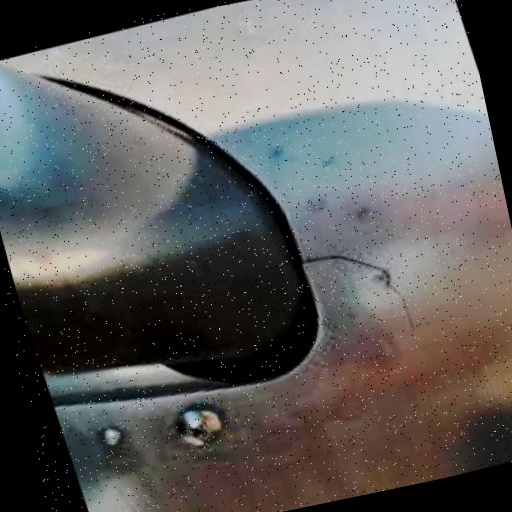crack: (299, 225, 420, 349)
